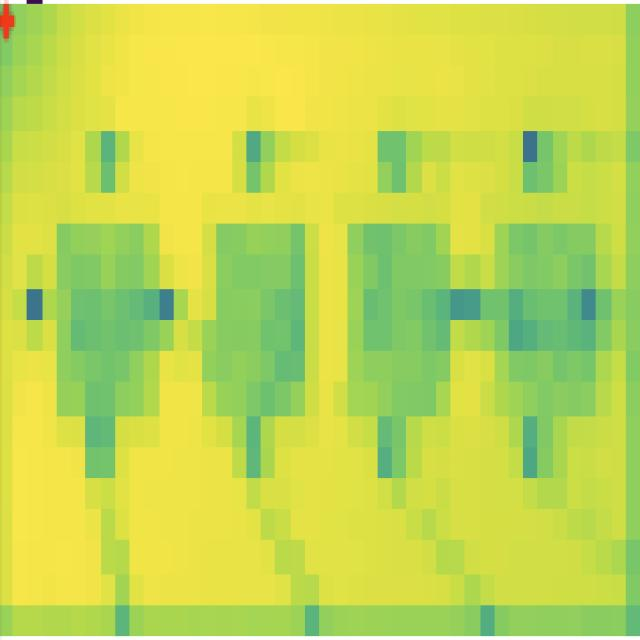Concrete: (485, 196, 613, 437)
Glass: (338, 194, 458, 438)
Metal: (38, 190, 175, 463)
Wood: (202, 202, 318, 438)
